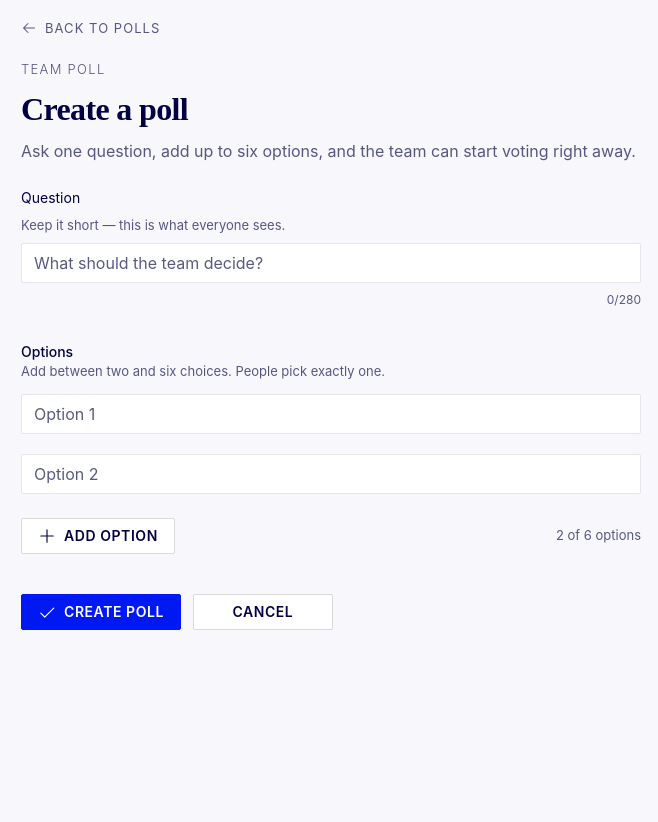
Scenario: CreatePollPage › CreatePollPage — add option — adds rows up to six then disables Add
The width and height of the screenshot is (658, 822).
Act — add four more to reach six.
Click the button "Add option" at (98, 536), box [21,518,175,554]
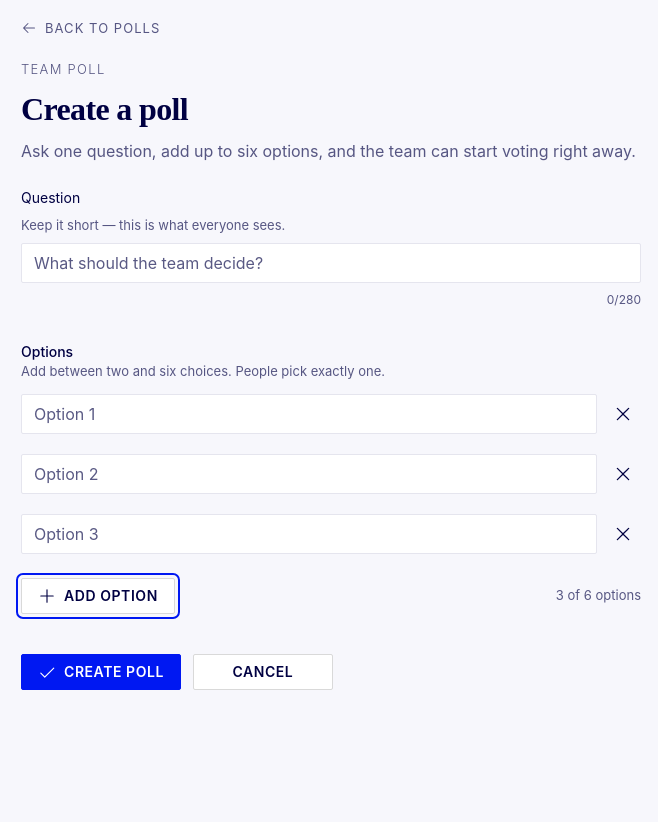
Click the button "Add option" at (98, 596), box [21,578,175,614]
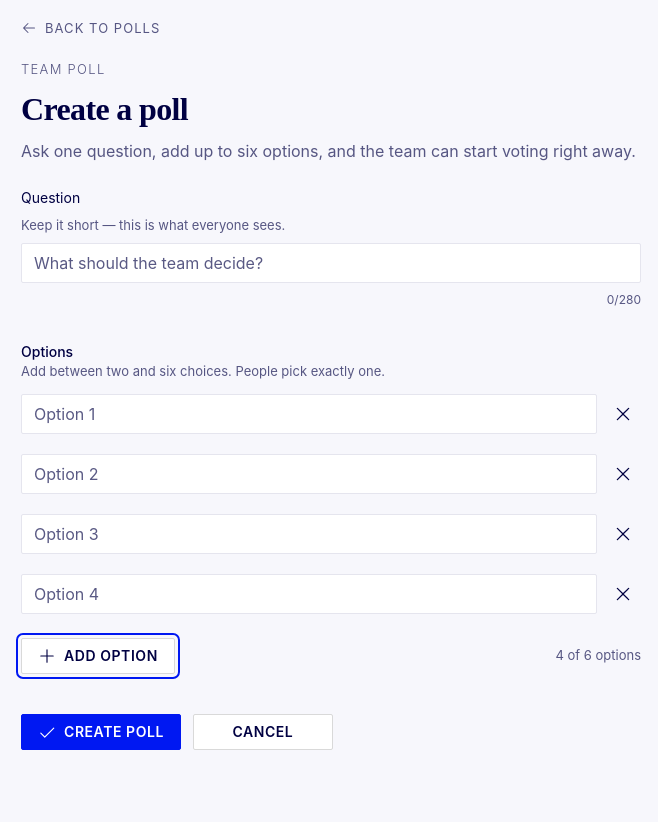
Click the button "Add option" at (98, 656), box [21,638,175,674]
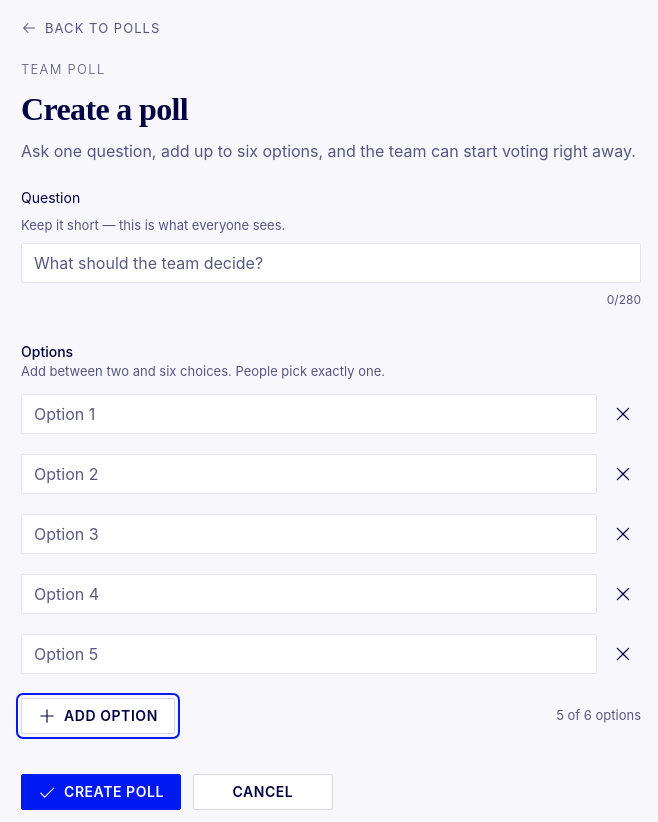
Click the button "Add option" at (98, 716), box [21,698,175,734]
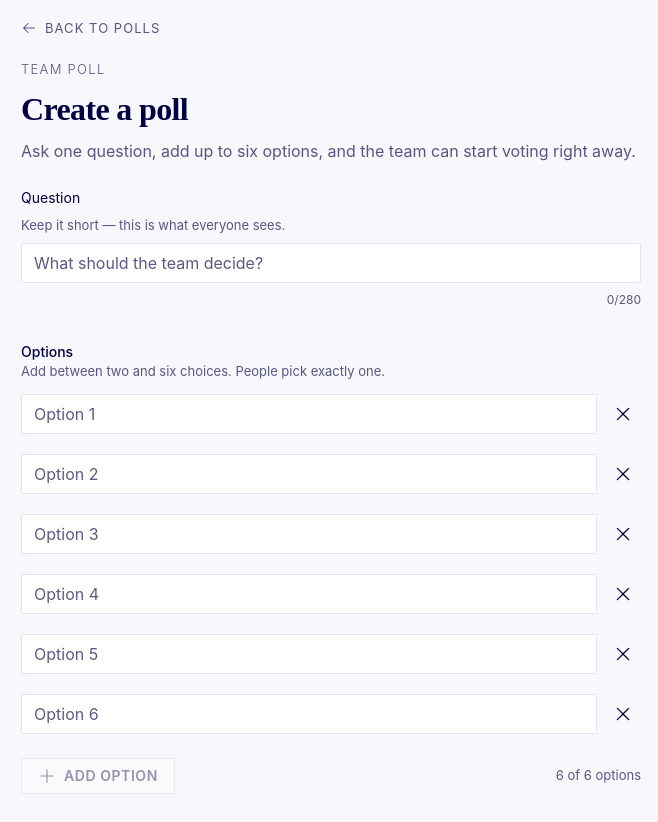
Result: the text "6 of 6 options" is shown at [556,766,641,785]
Result: the button "Add option" is disabled at [21,758,175,794]
